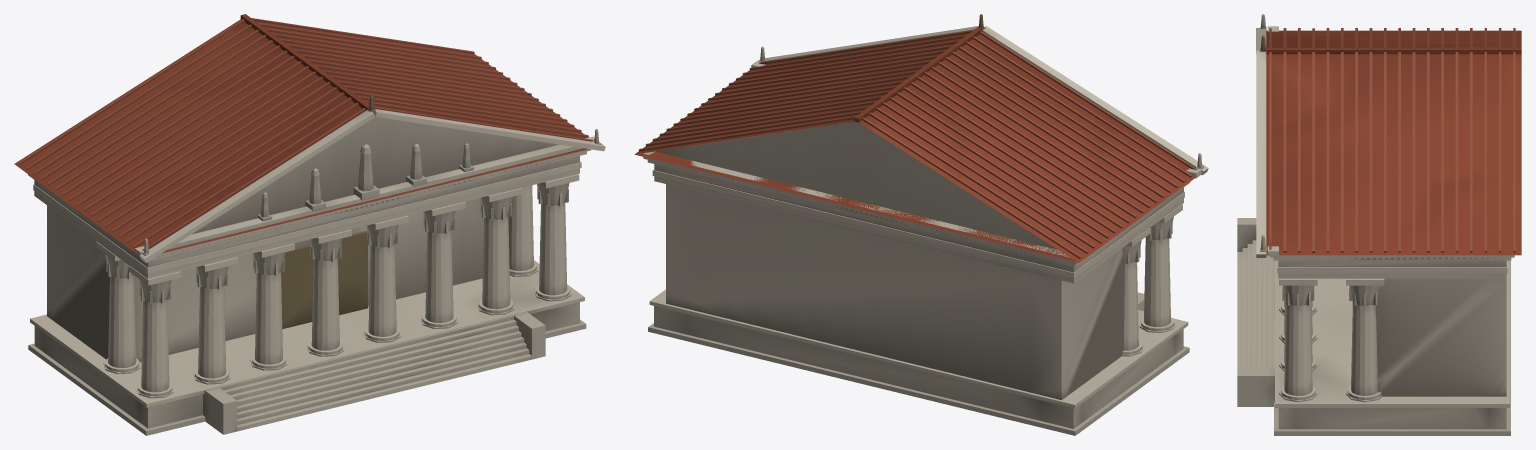
Rendered from pantheon-agrippa.glb.
3 renders of one model, left to right at view 1: azimuth 30°, elevation 25°; view 2: azimuth 150°, elevation 25°; view 3: azimuth 270°, elevation 25°, orthographic. The views are drawn at different scales.
Parts seen in each view (by area): view 1: p2_roof, p1_columns, p0_podium; view 2: p2_roof, p1_columns, p0_podium; view 3: p2_roof, p1_columns, p0_podium.
Part boxes in pixels (<box>): p2_roof: <box>14,14,605,278</box>; p1_columns: <box>47,174,579,398</box>; p0_podium: <box>28,260,586,435</box>; p2_roof: <box>634,14,1208,283</box>; p1_columns: <box>666,184,1182,399</box>; p0_podium: <box>648,289,1189,435</box>; p2_roof: <box>1256,14,1521,278</box>; p1_columns: <box>1279,278,1506,402</box>; p0_podium: <box>1237,218,1510,435</box>.
Bounding box in the file's own units: 46.96 × 28.29 × 24.92.
